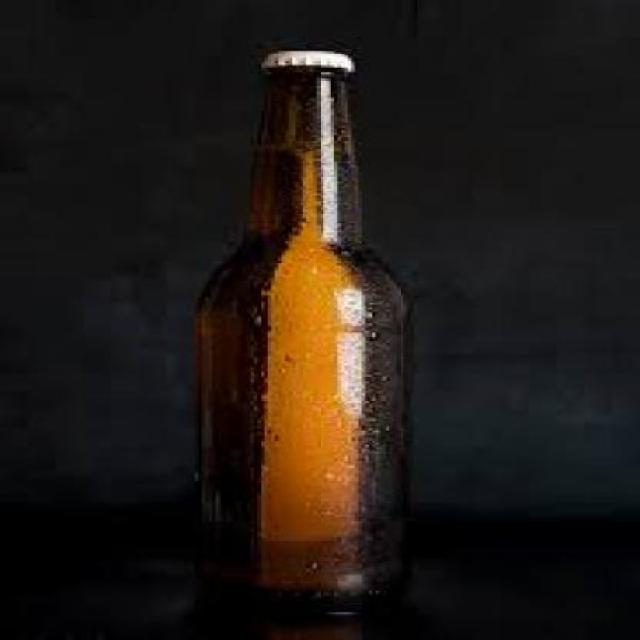GLASS: (198, 65, 414, 612)
METAL: (272, 49, 358, 68)
